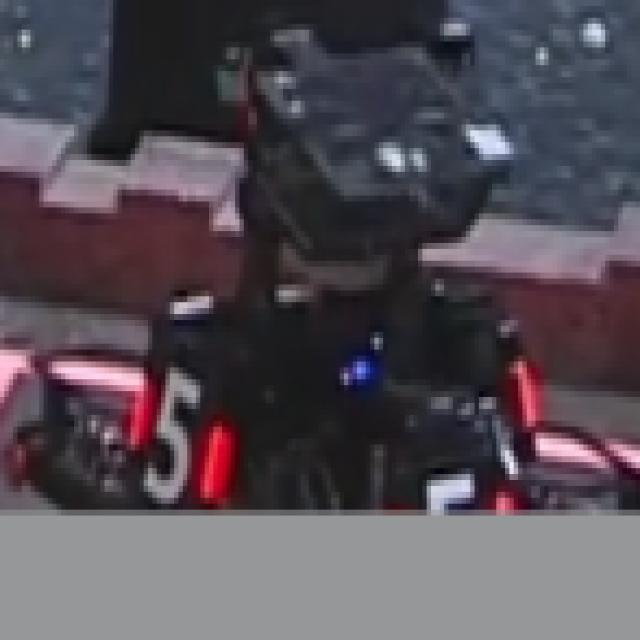R5: (122, 343, 235, 510)
